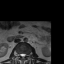CCS_normal: (21, 51, 24, 60)
LFS_stenosis: (26, 51, 28, 58)
LLS_normal: (24, 51, 26, 59)
RFS_normal: (17, 51, 19, 57)
RLS_normal: (19, 51, 21, 58)
